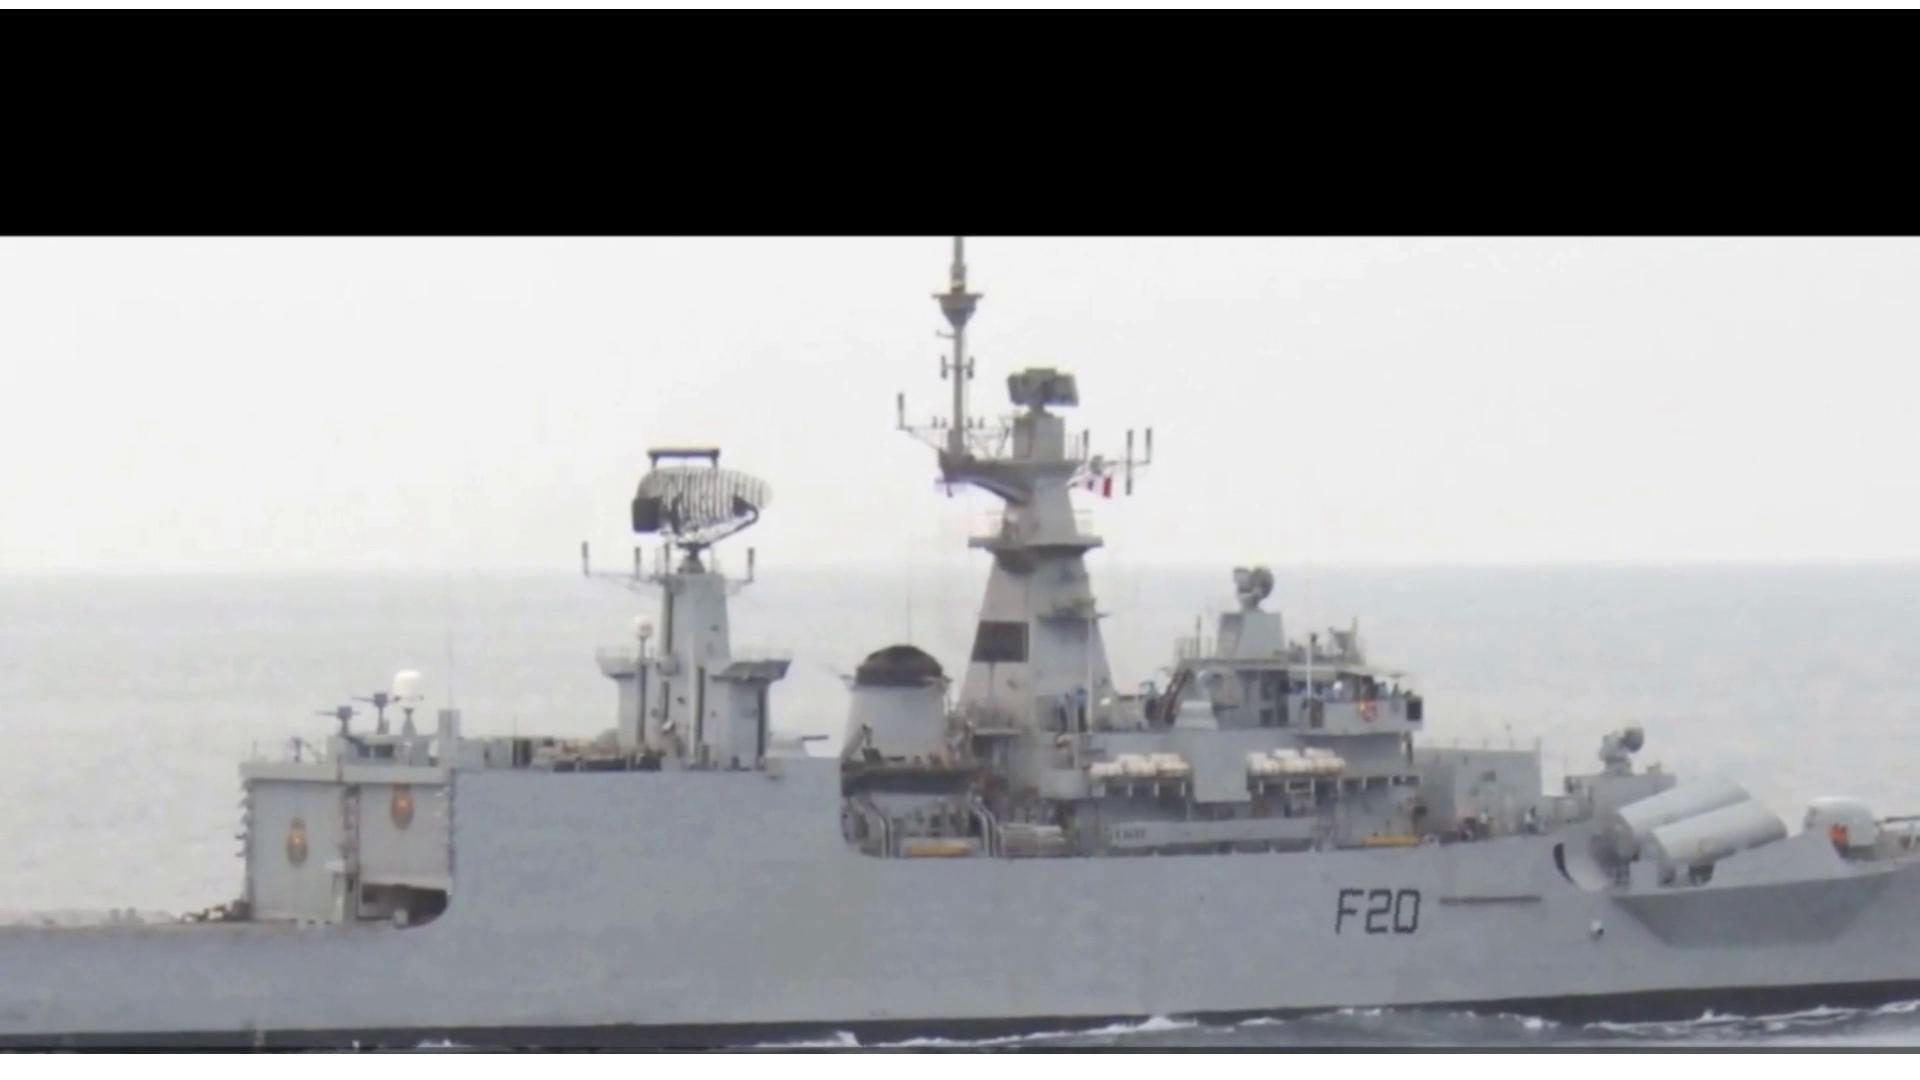OCR: (1324, 876, 1429, 945)
